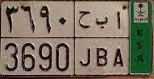0: (55, 16, 70, 72)
3: (4, 6, 18, 72)
6: (20, 5, 36, 73)
9: (39, 6, 53, 72)
A: (112, 10, 125, 68)
B: (95, 16, 108, 67)
J: (78, 10, 92, 68)
